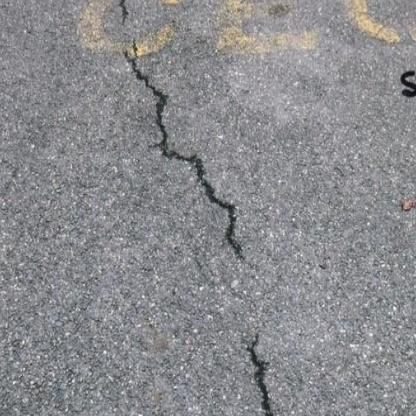Cracks: (121, 39, 251, 267), (242, 332, 292, 416), (115, 0, 134, 31)
